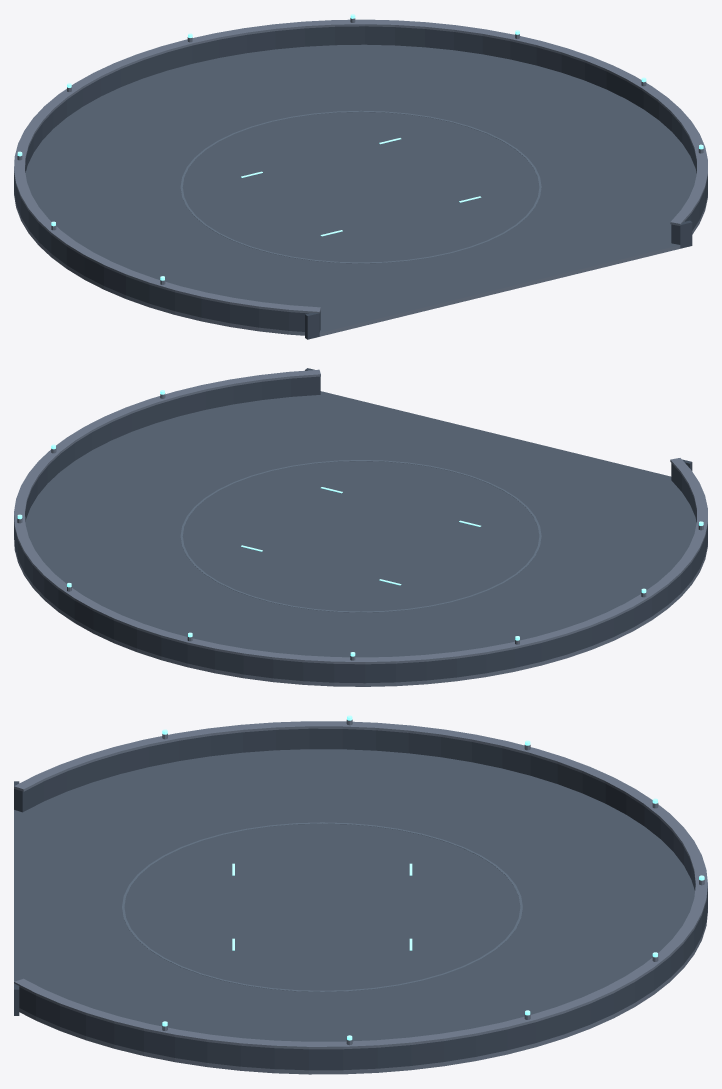
File: DS_Arena.glb
3 views of the same model, one above another, from view 1: azimuth 30°, elevation 25°; view 2: azimuth 150°, elevation 25°; view 3: azimuth 270°, elevation 25° (orthographic). The views are drawn at different scales.
Parts seen in each view (by area): view 1: DS_Arena; view 2: DS_Arena; view 3: DS_Arena.
Part boxes in pixels (bbox=[...]): DS_Arena: bbox=[14, 14, 707, 339]; DS_Arena: bbox=[14, 368, 707, 686]; DS_Arena: bbox=[14, 715, 707, 1074].
Bounding box in the file's own units: 200 × 10.05 × 180.
Materials: 2 (2 with a texture image).
